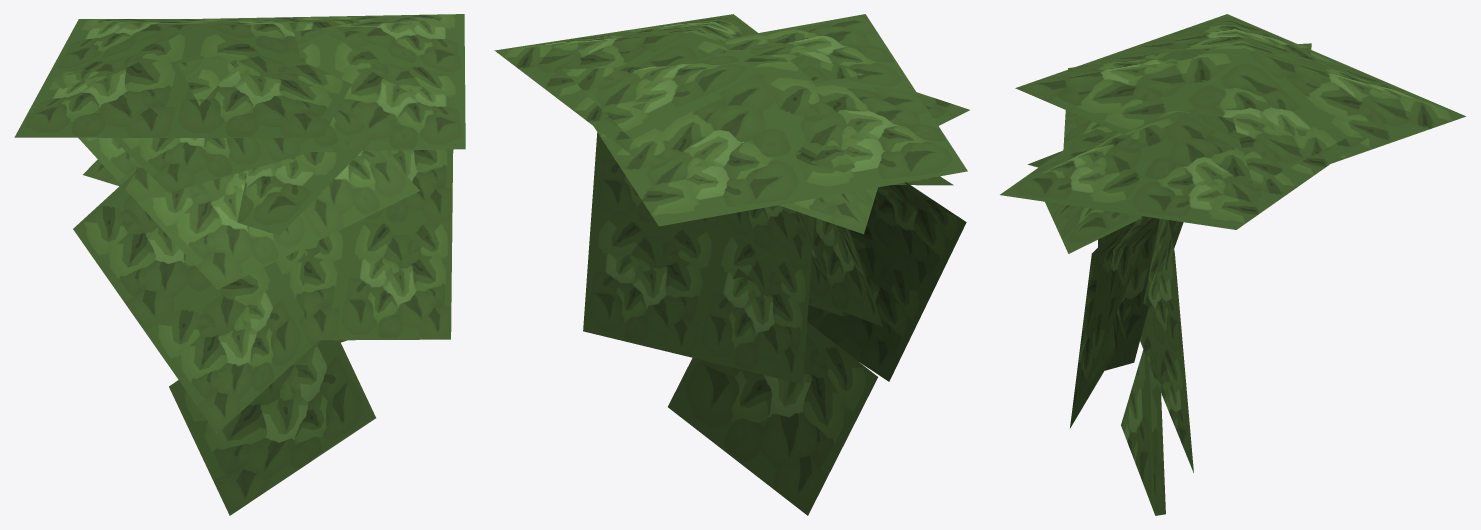
The model's file is SM_Env_Vines_07.fbx.
3 renders of one model, left to right at view 1: azimuth 30°, elevation 25°; view 2: azimuth 150°, elevation 25°; view 3: azimuth 270°, elevation 25°, orthographic. The views are drawn at different scales.
Visible parts, largest first — view 1: SM_Env_Vines_07_LOD0; view 2: SM_Env_Vines_07_LOD0; view 3: SM_Env_Vines_07_LOD0.
Part boxes in pixels (box(x1,y1,x2,y2)): SM_Env_Vines_07_LOD0: box(14, 14, 465, 515); SM_Env_Vines_07_LOD0: box(494, 14, 969, 515); SM_Env_Vines_07_LOD0: box(1000, 14, 1465, 515).
Size of what is drawn, in the model's own units: 300 by 289 by 262.
